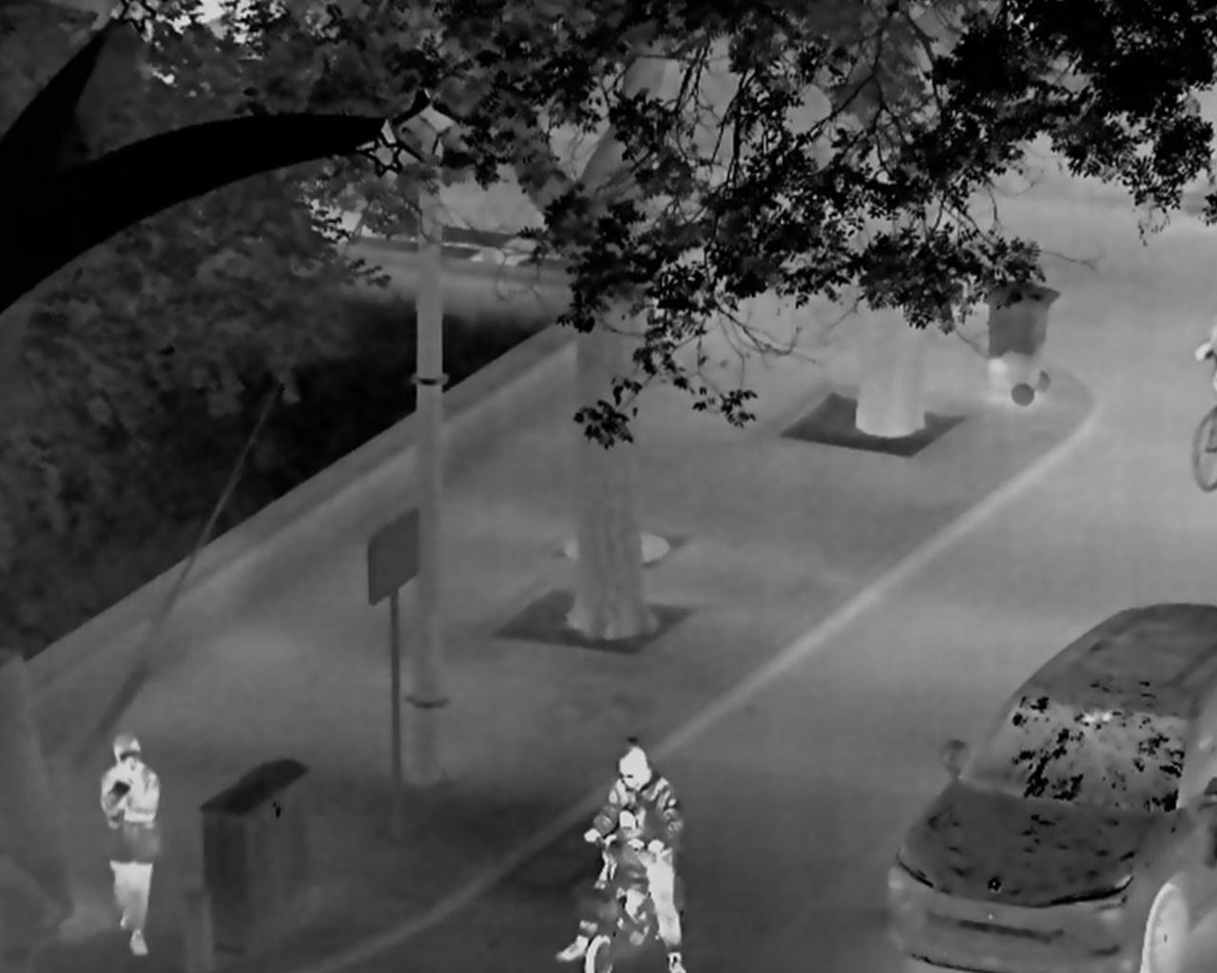person: (553, 735, 690, 973), (98, 731, 162, 957), (600, 803, 654, 946)
